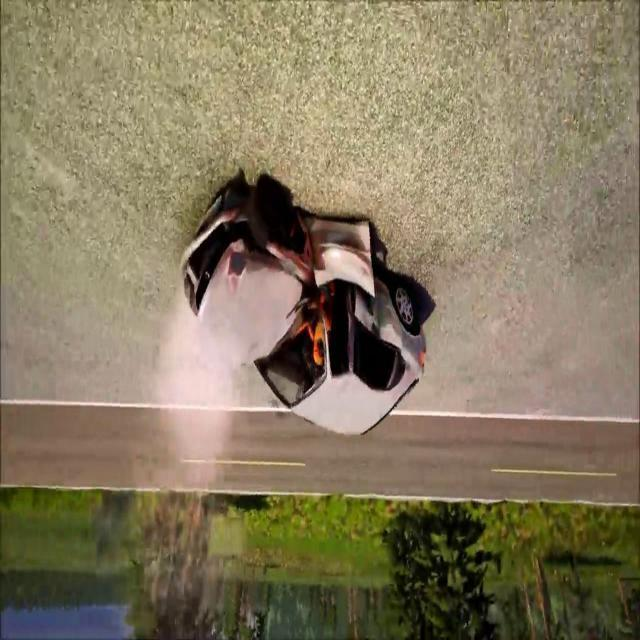severe: (174, 181, 430, 441)
